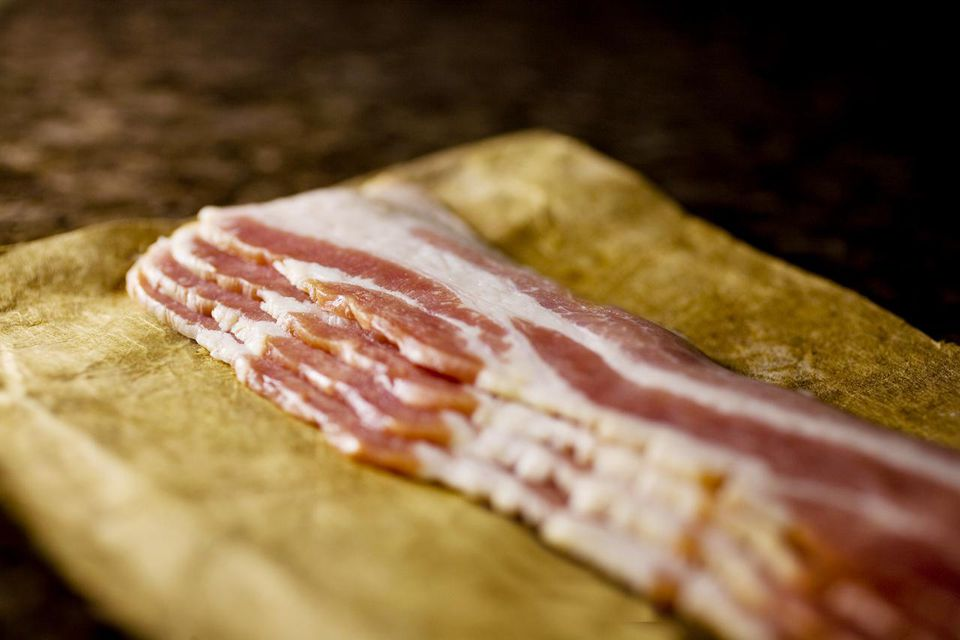bacon: (127, 140, 960, 634)
